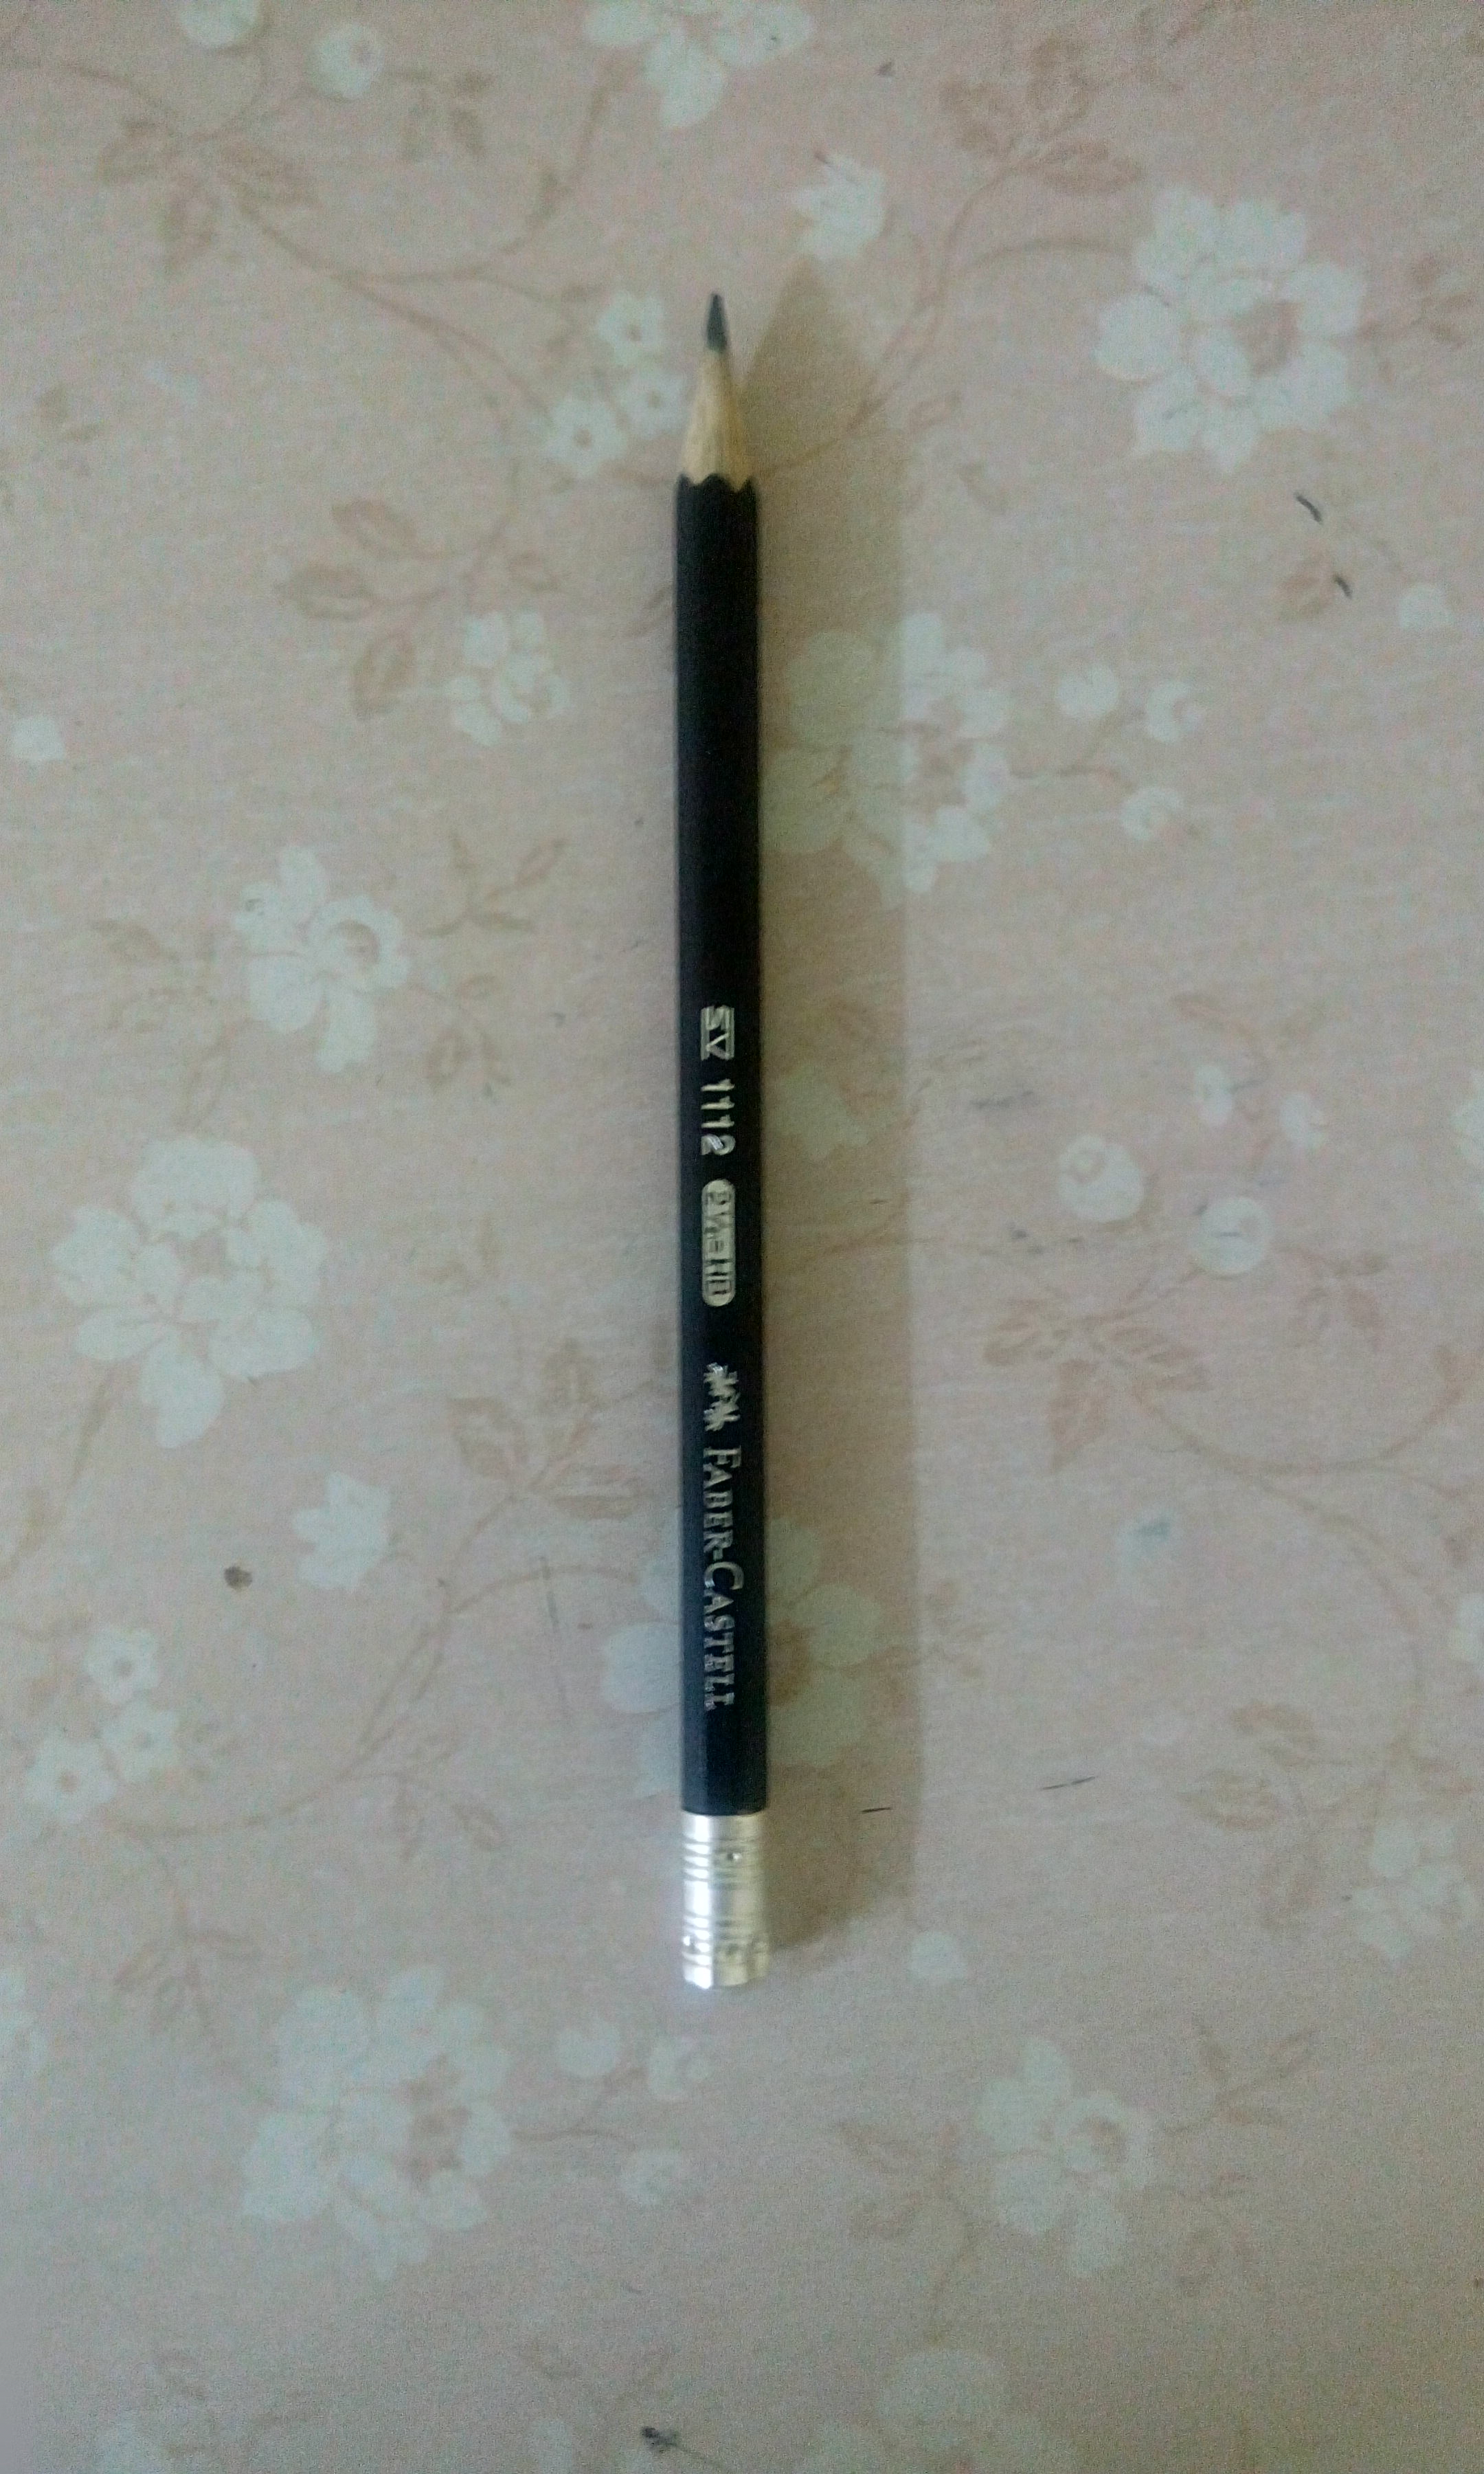pen_tip: (588, 226, 850, 581)
